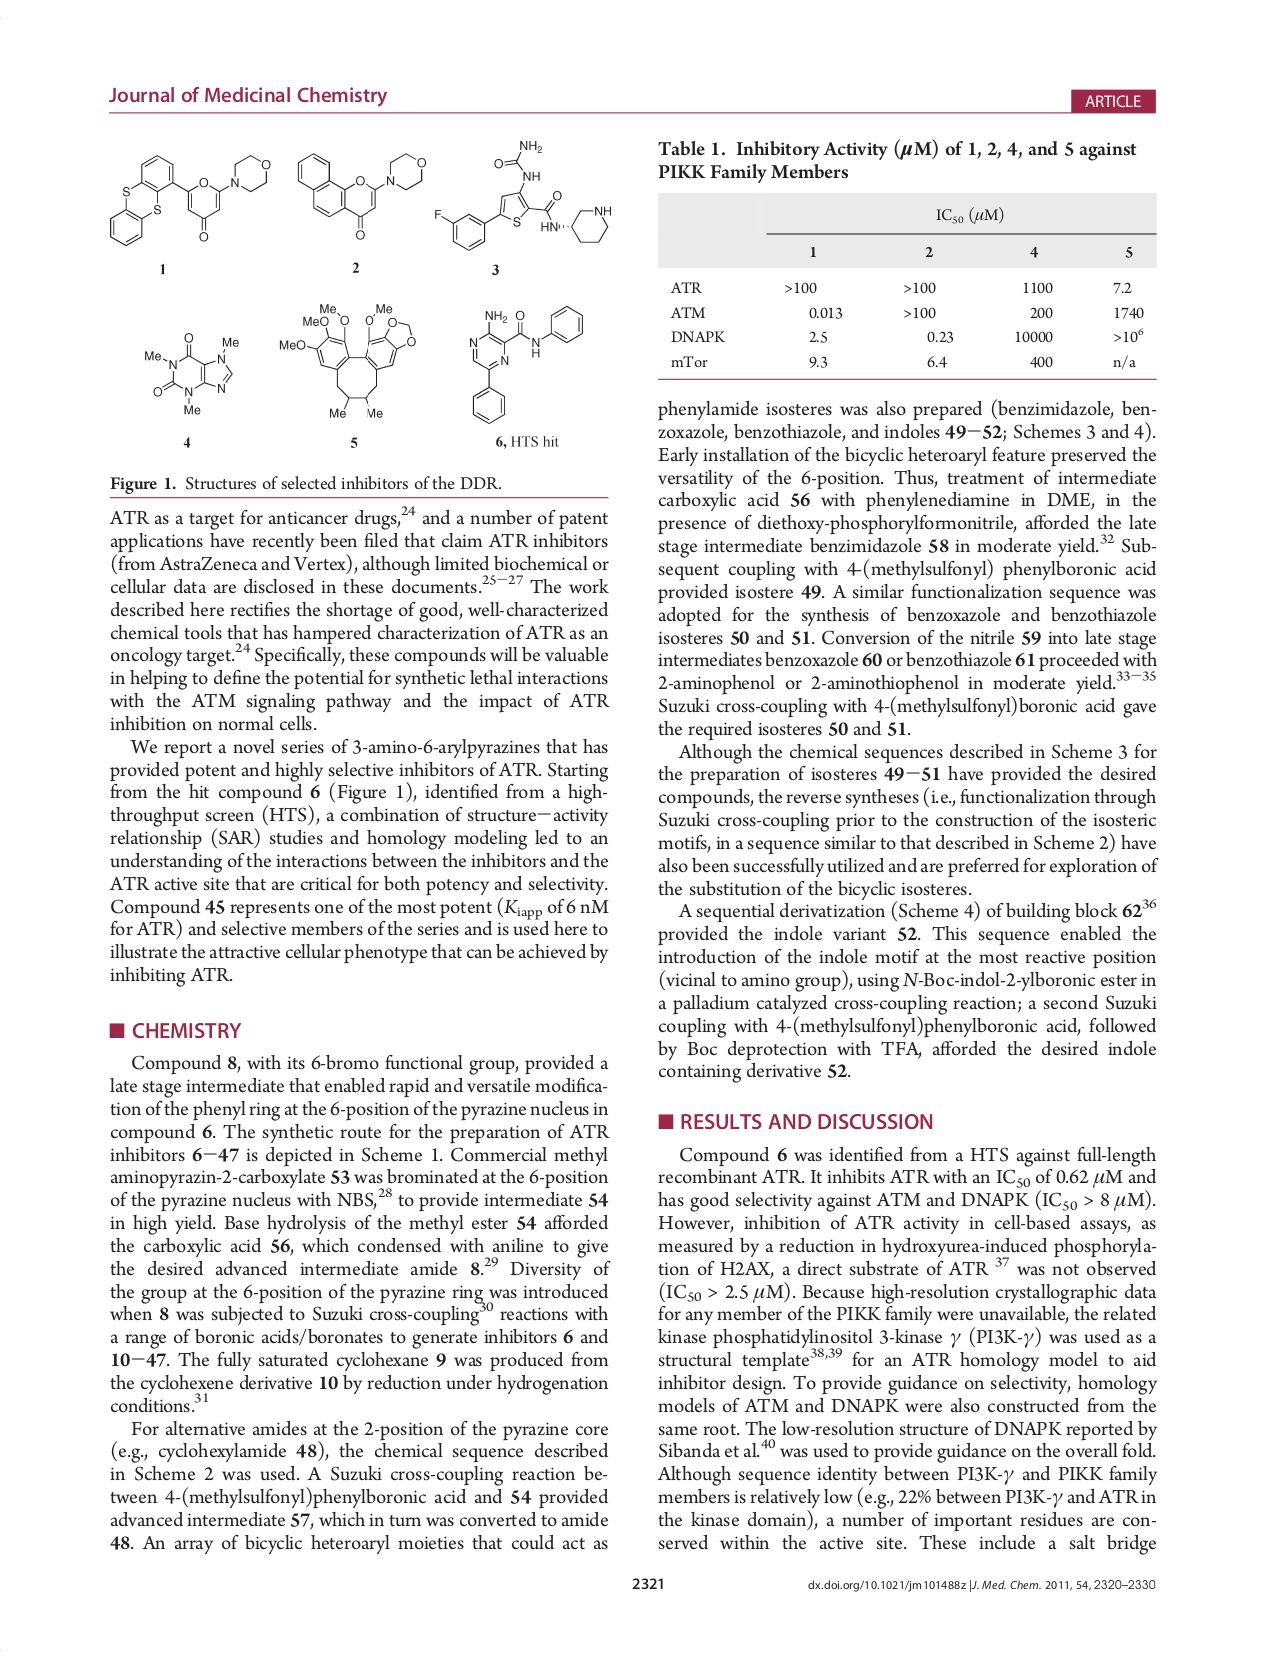exist_molecular: (434, 138, 616, 257), (101, 148, 277, 251), (275, 298, 418, 422), (463, 301, 586, 424), (294, 142, 426, 243), (140, 327, 245, 418)
